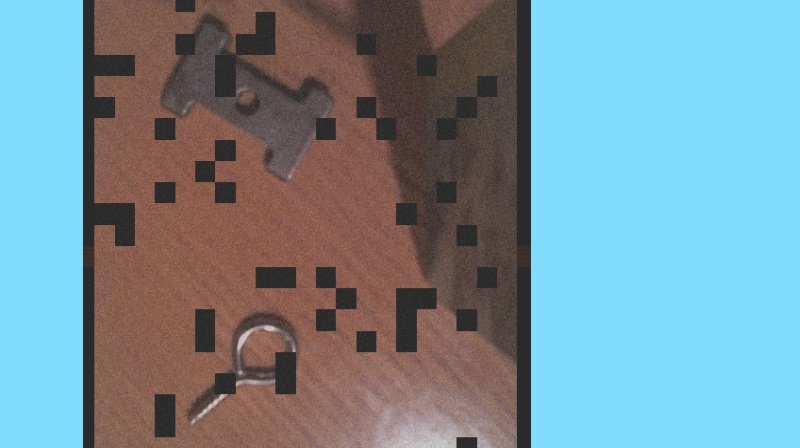O001: (180, 313, 301, 426)
O002: (157, 15, 335, 184)
